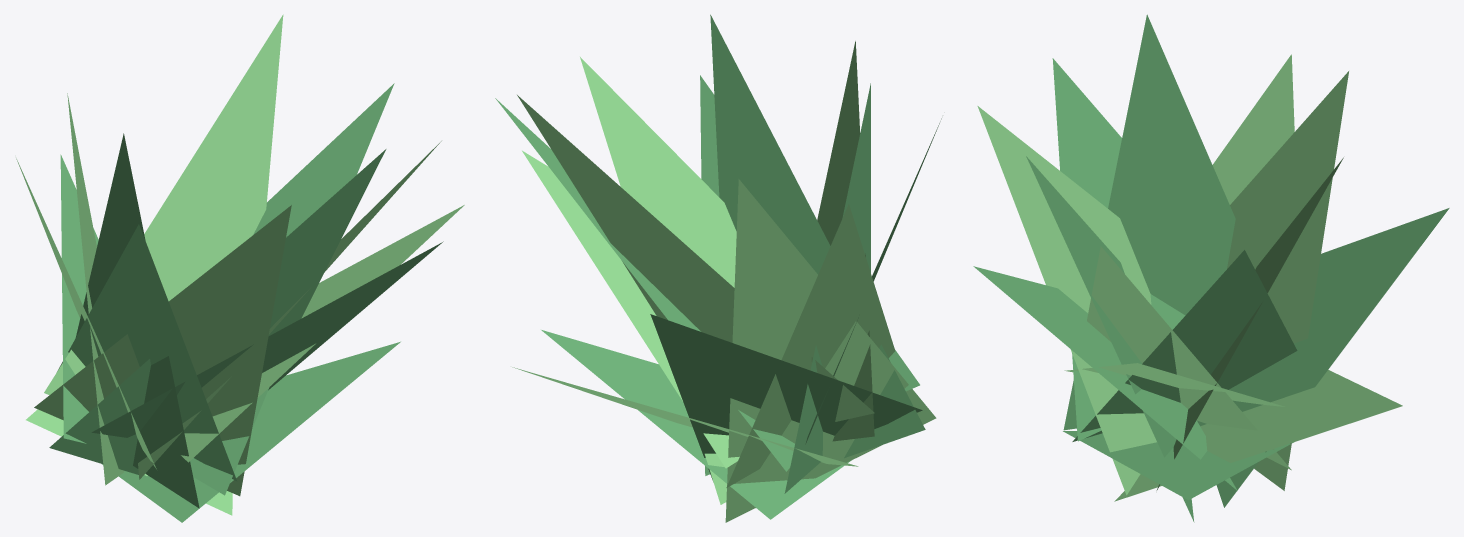
File: lettuce__lettuce.fbx
The picture shows the model from 3 angles, left to right: view 1: azimuth 30°, elevation 25°; view 2: azimuth 150°, elevation 25°; view 3: azimuth 270°, elevation 25°; orthographic projection. The views are drawn at different scales.
Parts seen in each view (by area): view 1: lettuce__lettuce; view 2: lettuce__lettuce; view 3: lettuce__lettuce.
Boxes of the visible parts, x1,y1,x2,y2 form: lettuce__lettuce: (16,14,464,522); lettuce__lettuce: (495,14,941,522); lettuce__lettuce: (973,14,1449,522).
Bounding box in the file's own units: 0.4062 × 0.3935 × 0.378.
